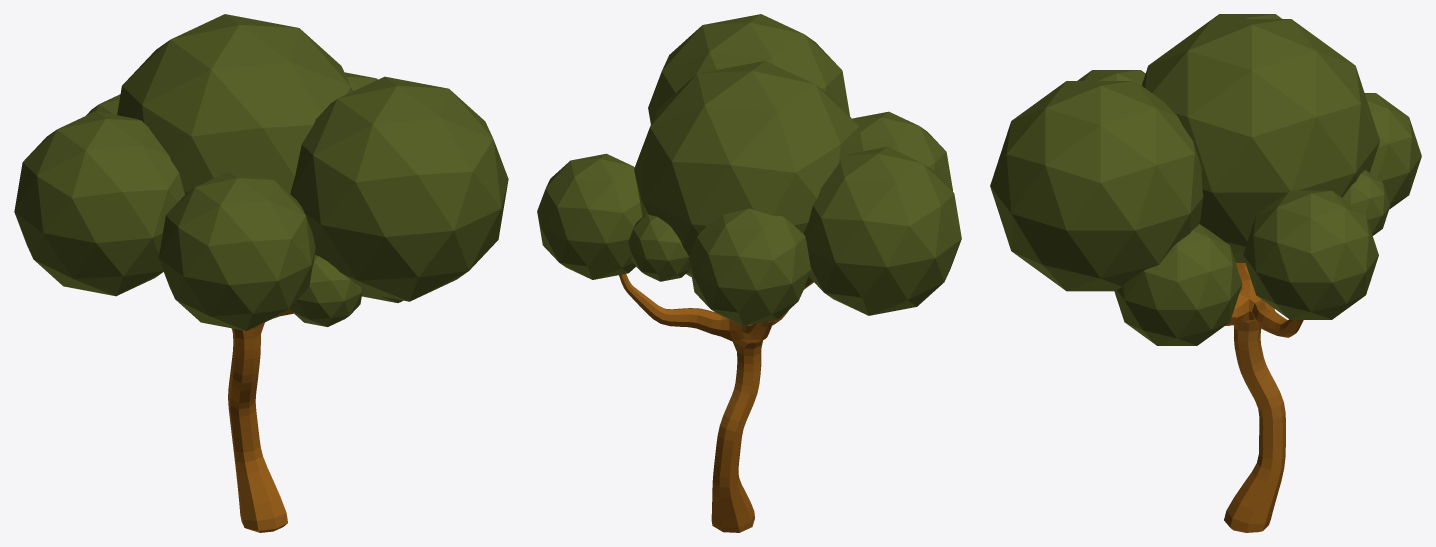
File: TreewShadow_1b.fbx
The picture shows the model from 3 angles, left to right: view 1: azimuth 30°, elevation 25°; view 2: azimuth 150°, elevation 25°; view 3: azimuth 270°, elevation 25°; orthographic projection. The views are drawn at different scales.
Visible parts, largest first — view 1: Plane.006; view 2: Plane.006; view 3: Plane.006.
Boxes of the visible parts, left/top/right/bottom form: Plane.006: left=14, top=14, right=508, bottom=532; Plane.006: left=537, top=14, right=961, bottom=532; Plane.006: left=990, top=14, right=1421, bottom=532.
Size of the model in its own units: 575 by 684 by 544.
